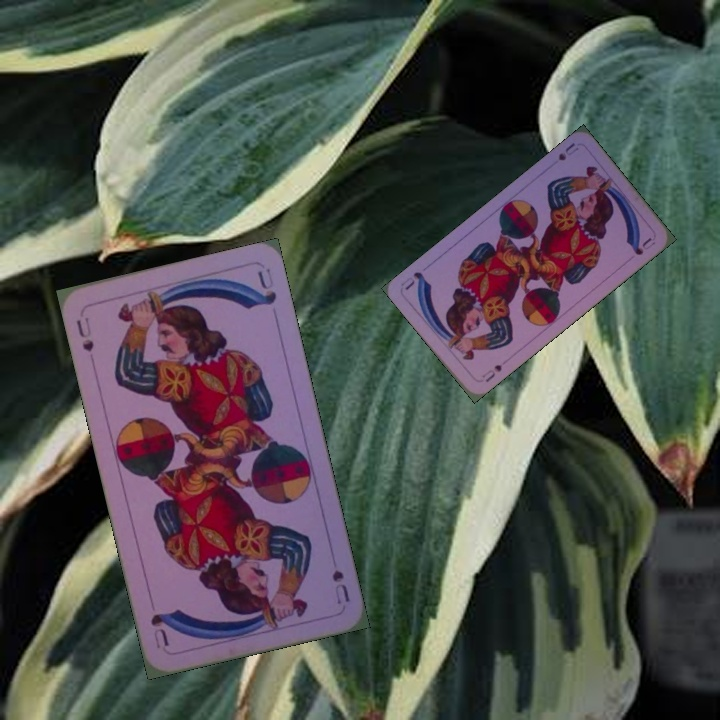SU: (72, 312, 96, 355), (328, 566, 353, 607), (478, 355, 511, 385), (554, 139, 581, 163)
